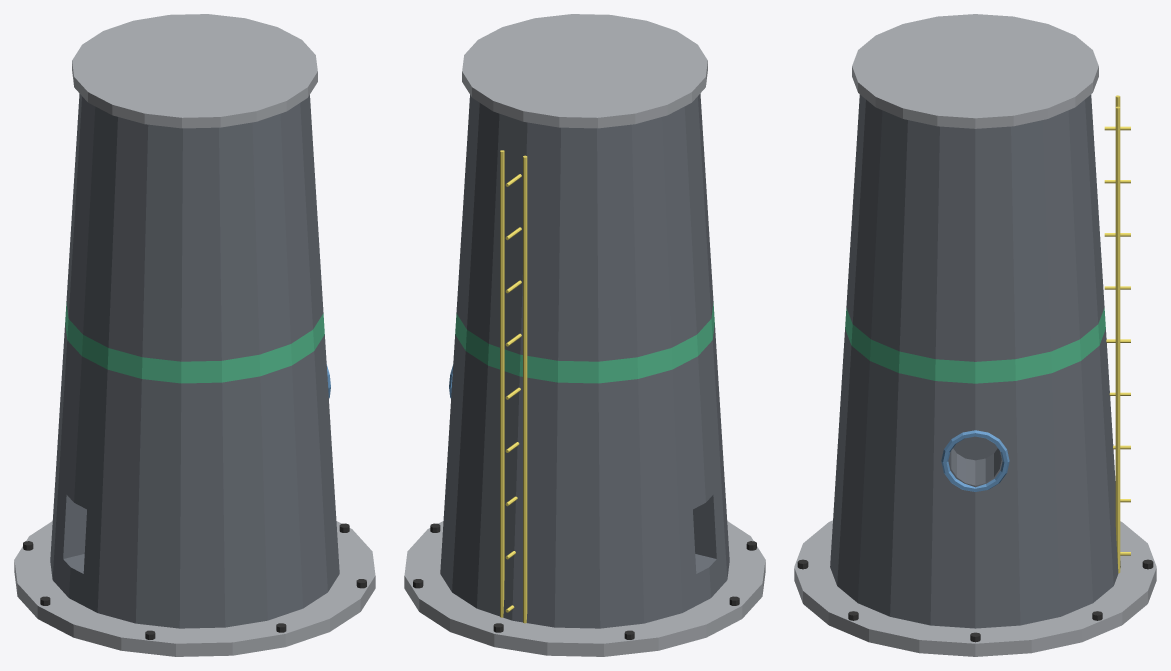
File: flash sep skirt.fbx
The picture shows the model from 3 angles, left to right: view 1: azimuth 30°, elevation 25°; view 2: azimuth 150°, elevation 25°; view 3: azimuth 270°, elevation 25°; orthographic projection.
Visible parts, largest first — view 1: FlashSeparator_Skirt_Support; view 2: FlashSeparator_Skirt_Support; view 3: FlashSeparator_Skirt_Support.
Boxes of the visible parts, left/top/right/bottom form: FlashSeparator_Skirt_Support: left=14, top=14, right=375, bottom=656; FlashSeparator_Skirt_Support: left=404, top=14, right=765, bottom=656; FlashSeparator_Skirt_Support: left=794, top=14, right=1156, bottom=656.
Bounding box in the file's own units: 124 × 194 × 124.
